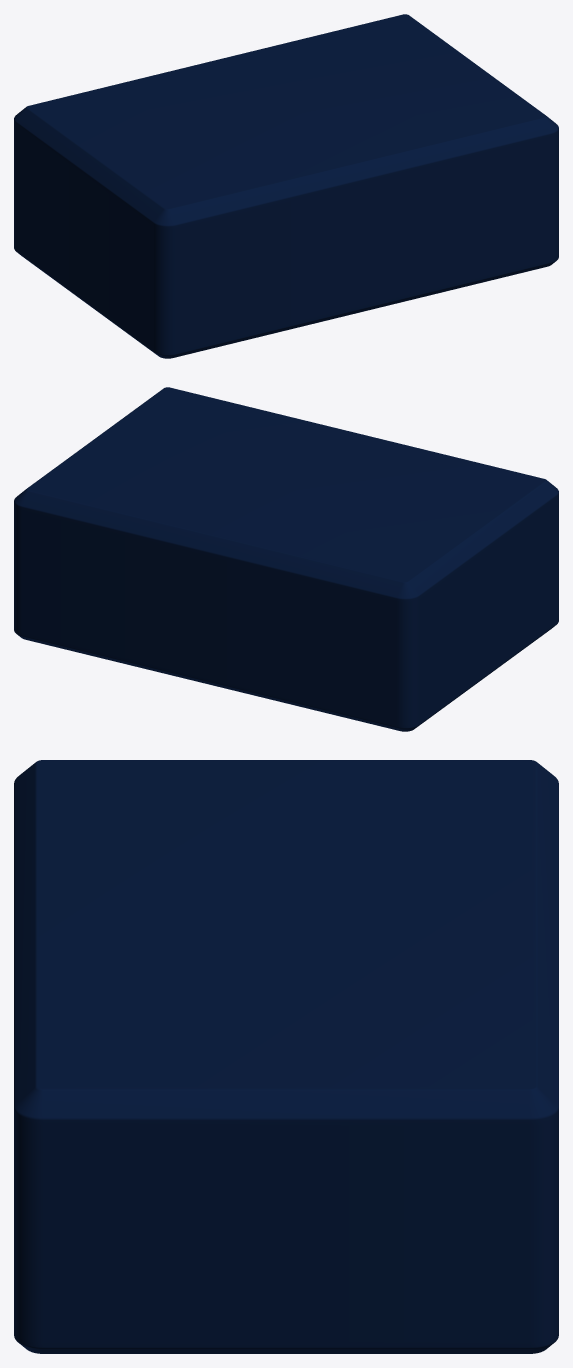
3 views of the same model, one above another, from view 1: azimuth 30°, elevation 25°; view 2: azimuth 150°, elevation 25°; view 3: azimuth 270°, elevation 25° (orthographic). The views are drawn at different scales.
Parts seen in each view (by area): view 1: part_000_Foam_body; view 2: part_000_Foam_body; view 3: part_000_Foam_body.
Part boxes in pixels (x1=…): part_000_Foam_body: x1=14, y1=14, x2=558, y2=358; part_000_Foam_body: x1=14, y1=387, x2=558, y2=731; part_000_Foam_body: x1=14, y1=760, x2=558, y2=1353.
Size of the model in its own units: 0.224 by 0.078 by 0.148.
